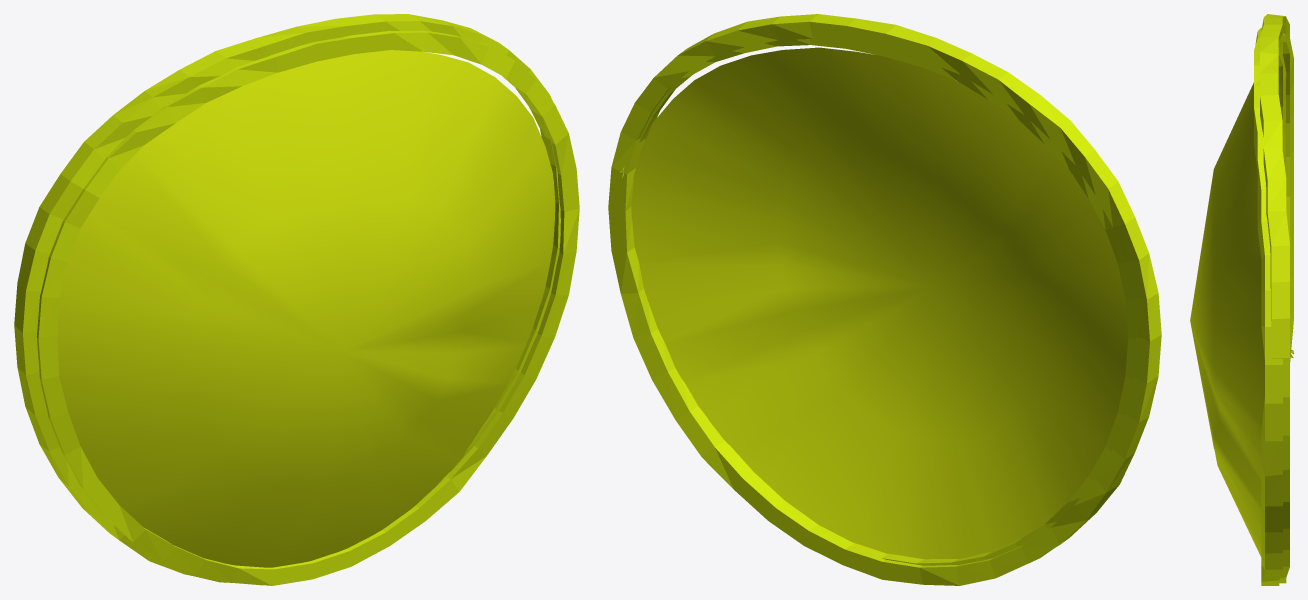
The model's file is yellow.FBX.
3 views of the same model, side by side, from view 1: azimuth 30°, elevation 25°; view 2: azimuth 150°, elevation 25°; view 3: azimuth 270°, elevation 25° (orthographic). The views are drawn at different scales.
Visible parts, largest first — view 1: VIFS05, VIFS06, VIFS007; view 2: VIFS05, VIFS007, VIFS06; view 3: VIFS05, VIFS007, VIFS06.
Boxes of the visible parts, <box> form: VIFS05: <box>57,50,555,582</box>; VIFS06: <box>36,30,579,585</box>; VIFS007: <box>14,14,560,585</box>; VIFS05: <box>631,47,1128,559</box>; VIFS007: <box>608,14,1161,585</box>; VIFS06: <box>639,39,1136,565</box>; VIFS05: <box>1190,82,1264,556</box>; VIFS007: <box>1260,14,1293,583</box>; VIFS06: <box>1254,27,1286,585</box>.
Bounding box in the file's own units: 13.15 × 12.55 × 2.32.
